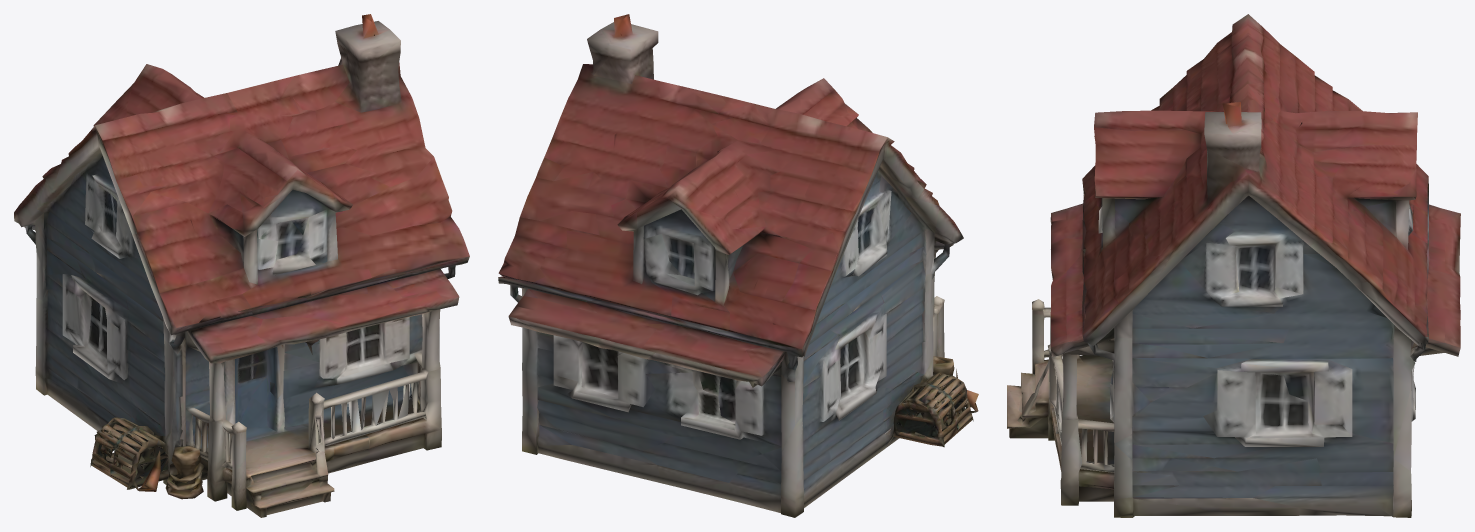
Rendered from fisher-house.glb.
The picture shows the model from 3 angles, left to right: view 1: azimuth 30°, elevation 25°; view 2: azimuth 150°, elevation 25°; view 3: azimuth 270°, elevation 25°; orthographic projection. The views are drawn at different scales.
Parts seen in each view (by area): view 1: fisher-house; view 2: fisher-house; view 3: fisher-house.
Part boxes in pixels (bbox=[...]): fisher-house: bbox=[14, 14, 469, 517]; fisher-house: bbox=[498, 14, 978, 517]; fisher-house: bbox=[1007, 14, 1460, 517].
Size of the model in its own units: 7.37 by 8 by 8.03.
1 material, 1 textured.
